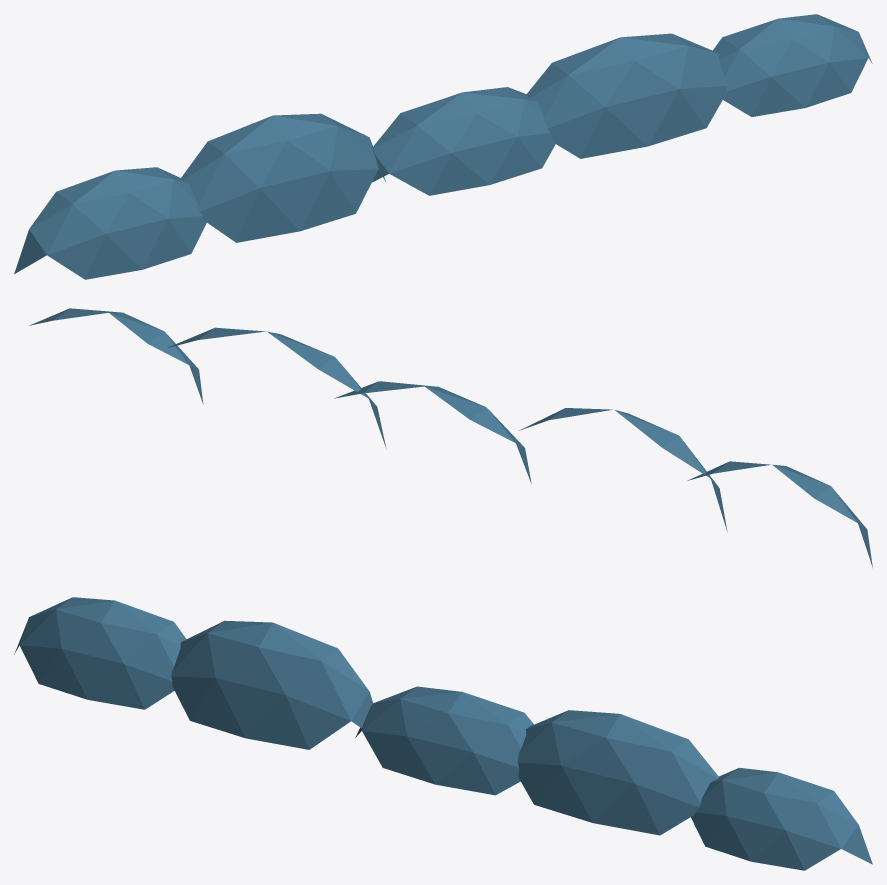
Rendered from far.glb.
3 renders of one model, top to bottom at view 1: azimuth 30°, elevation 25°; view 2: azimuth 150°, elevation 25°; view 3: azimuth 330°, elevation 25°, orthographic.
Parts seen in each view (by area): view 1: Far; view 2: Far; view 3: Far.
Boxes of the visible parts, x1,y1,x2,y2 form: Far: (14, 14, 872, 279); Far: (29, 308, 872, 567); Far: (14, 597, 872, 870).
Bounding box in the file's own units: 27.2 × 2.9 × 1.96.
